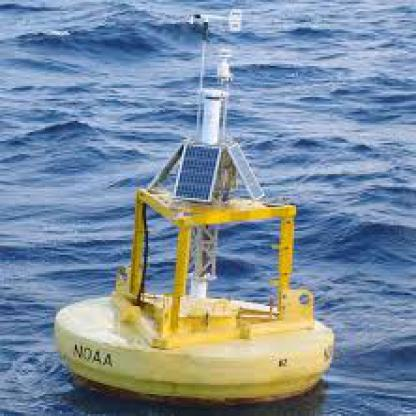buoy: (38, 6, 348, 414)
